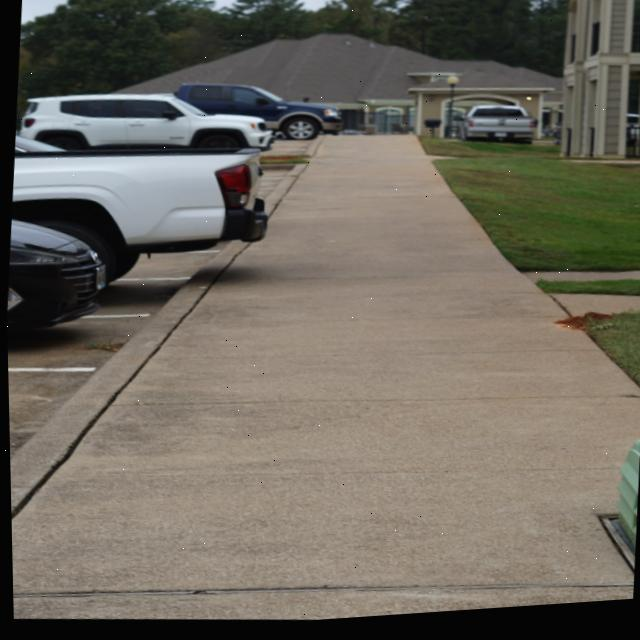Automobile: (5, 87, 342, 328), (457, 112, 534, 150)
Obstacle: (614, 448, 638, 554)
Road: (6, 254, 214, 459)
Sidewalk: (8, 141, 640, 624)
